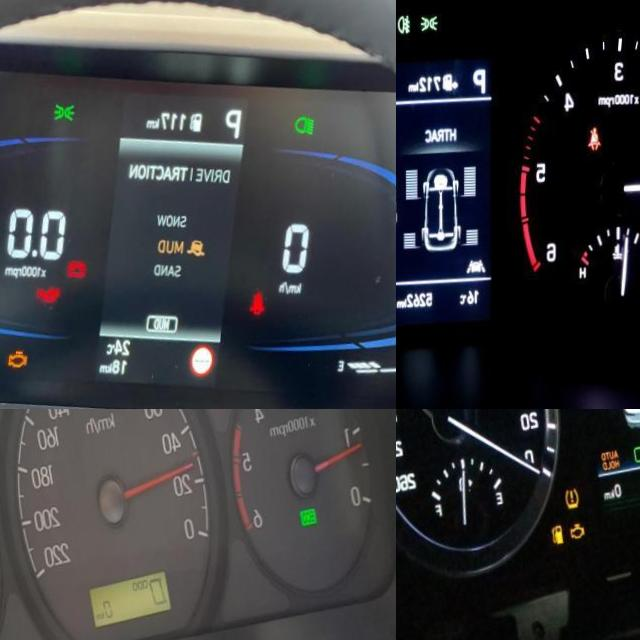FrontFogLight: (398, 16, 411, 38)
Low beam: (295, 120, 316, 141)
Low fuel level: (550, 526, 564, 549)
SideLamp: (53, 104, 77, 126), (421, 16, 439, 37)
